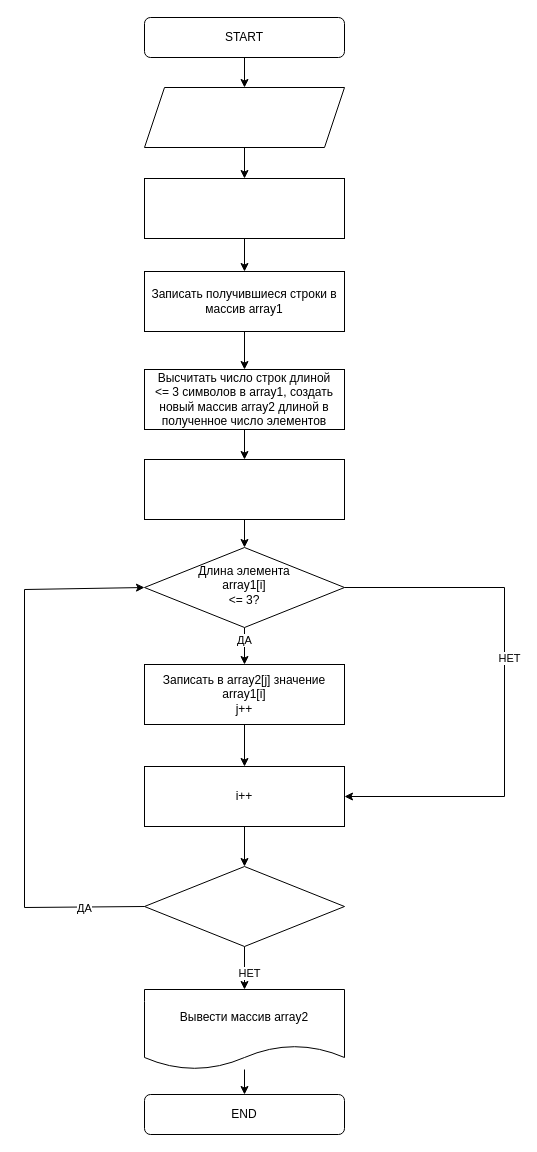
Image size: 537x1152. Some labels were removed from this diagram. Each missing label, with the centre of its shape:
i = 0; j = 0;: the point at 244,489
В массиве есть элемент array1[i]?: the point at 244,906
Ввод строки пользователем: the point at 244,117
Разделить введенную строку: the point at 244,208
